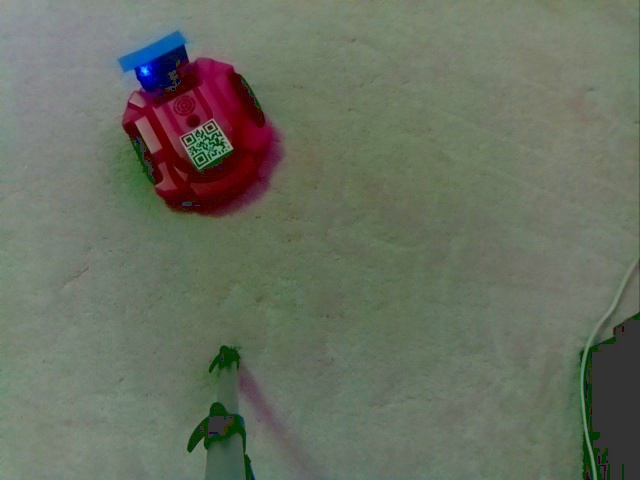board: (117, 31, 198, 86)
chassis: (110, 28, 276, 215)
